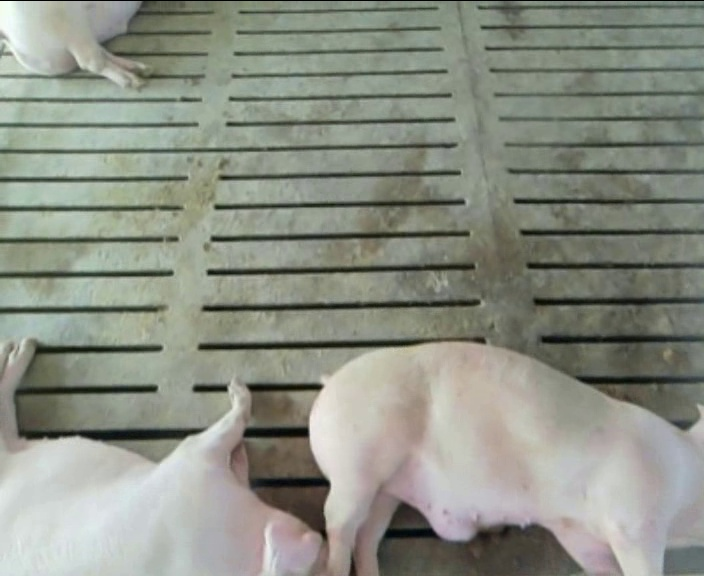pig: (311, 342, 703, 573)
